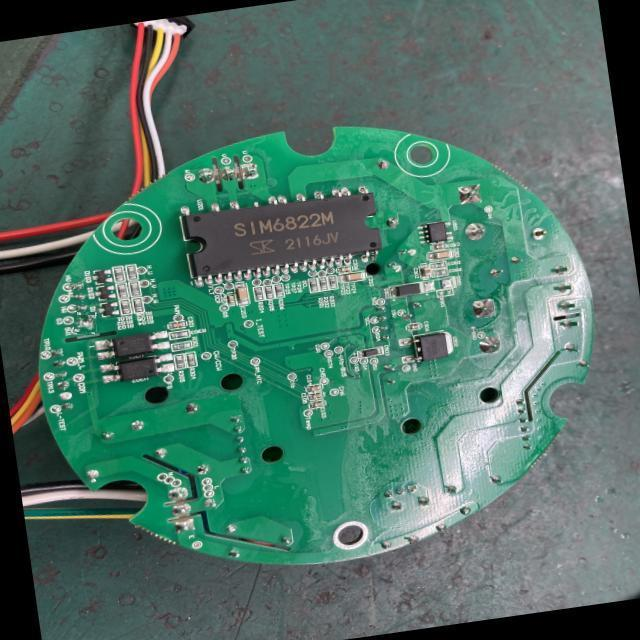damged: (76, 313, 96, 334)
